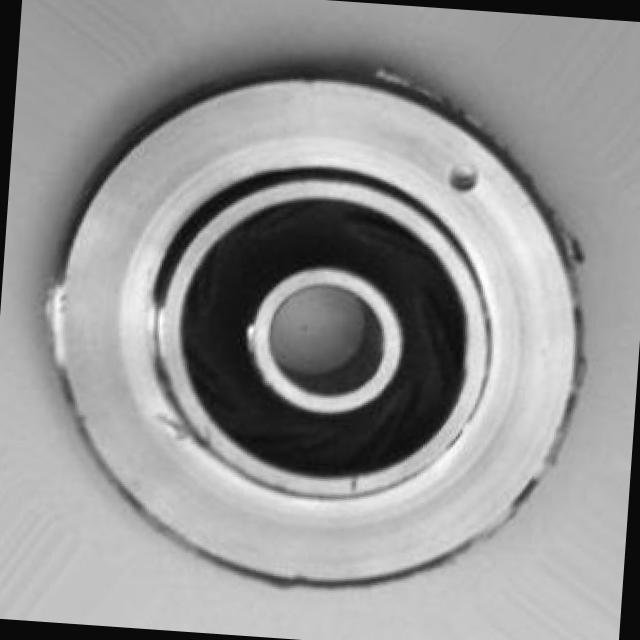Defect: (32, 275, 84, 344), (553, 212, 594, 284), (438, 152, 481, 198)
